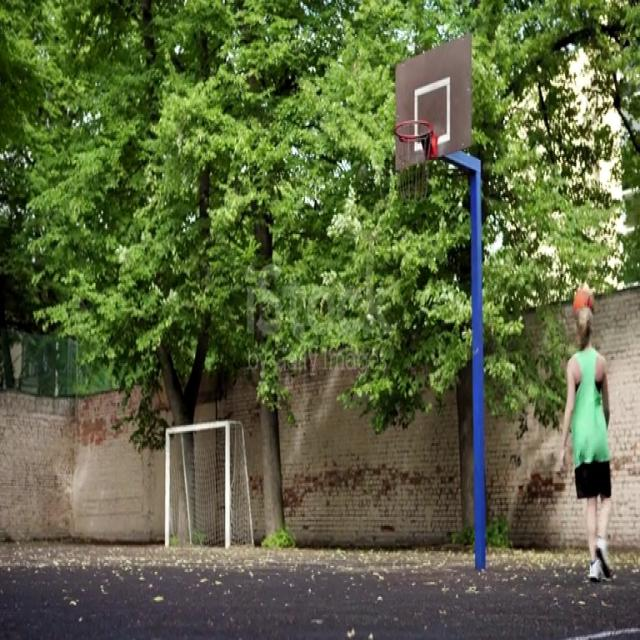ball: (573, 283, 594, 318)
